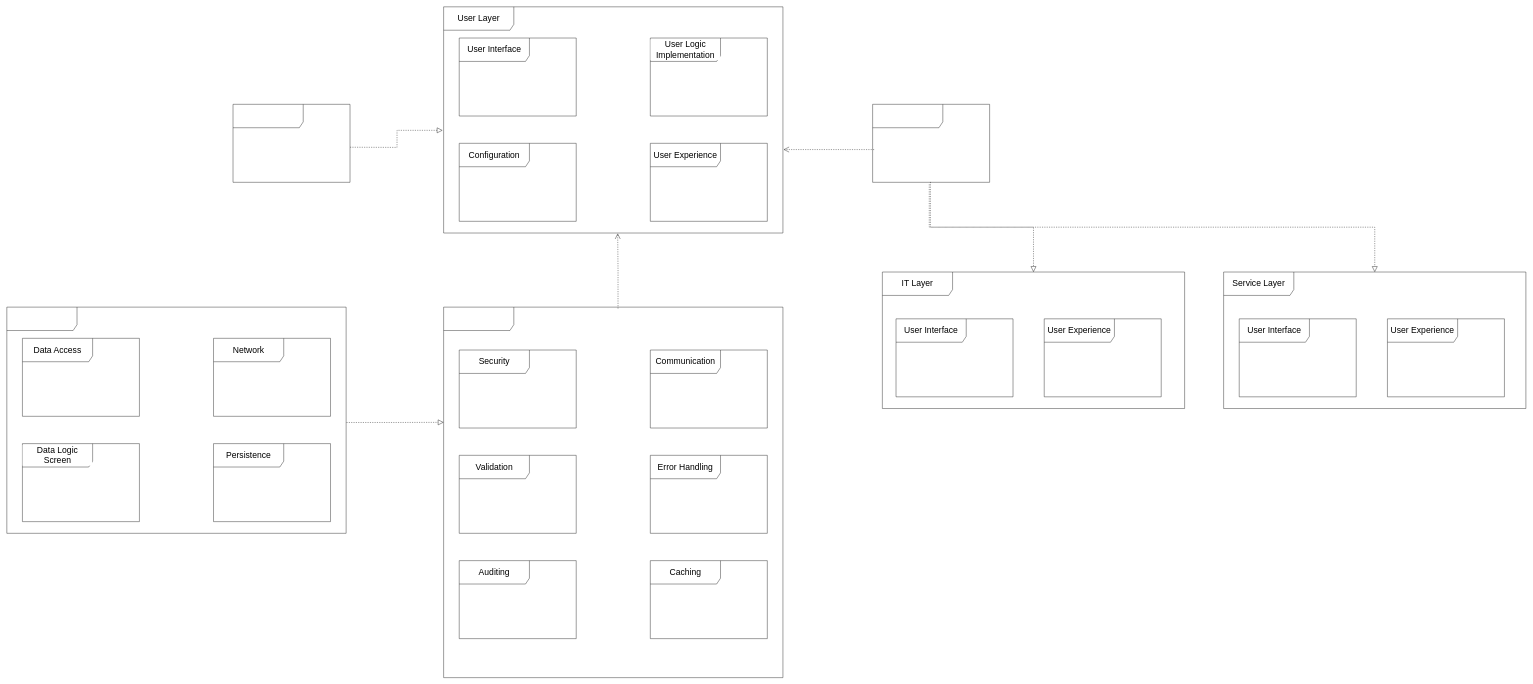
Image size: 1533x684. Some labels were removed from this diagram. The shapes that lost their labels are listed below. From the top down, each one's box as (x1, y1, x2, y2) in pixels, then its label:
(233, 104, 350, 182): User
(872, 104, 990, 182): External System
(6, 307, 346, 533): Data Layer
(443, 307, 783, 678): Cross-Cutting
